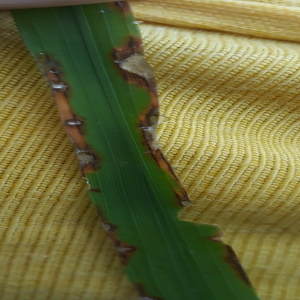Rice_Blast: (109, 32, 154, 89), (132, 98, 169, 159), (32, 53, 70, 101), (70, 138, 105, 184), (110, 236, 138, 264), (65, 106, 91, 134), (174, 186, 199, 208), (100, 215, 116, 233)
